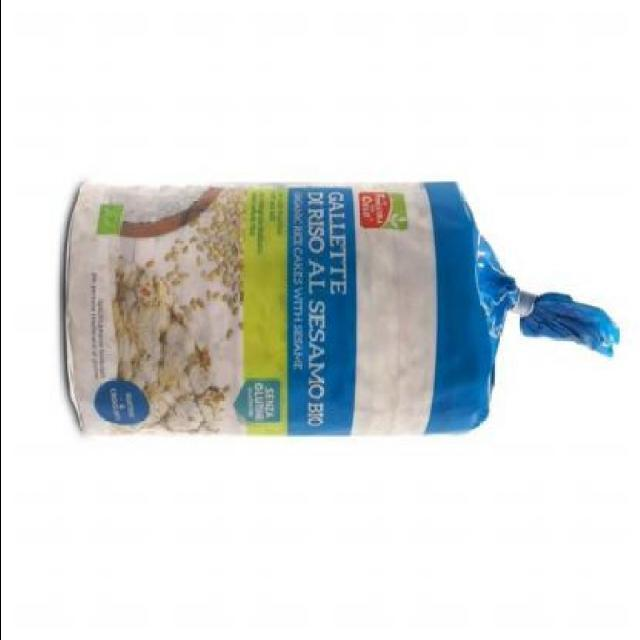Gallette di riso: (64, 178, 624, 444)
